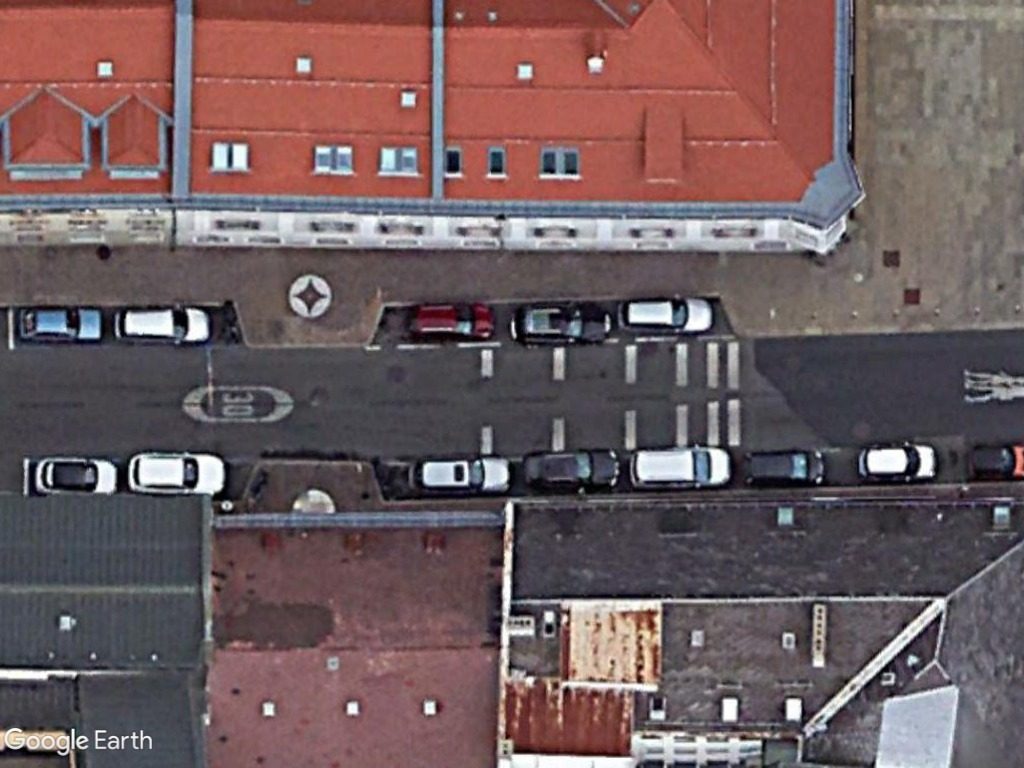car: (123, 448, 231, 500), (626, 442, 735, 493), (517, 444, 625, 493), (504, 300, 616, 347), (409, 452, 514, 499), (614, 295, 717, 339), (110, 305, 215, 348), (29, 452, 120, 500), (739, 447, 829, 492), (16, 304, 107, 347), (410, 301, 501, 344), (854, 442, 941, 485)
